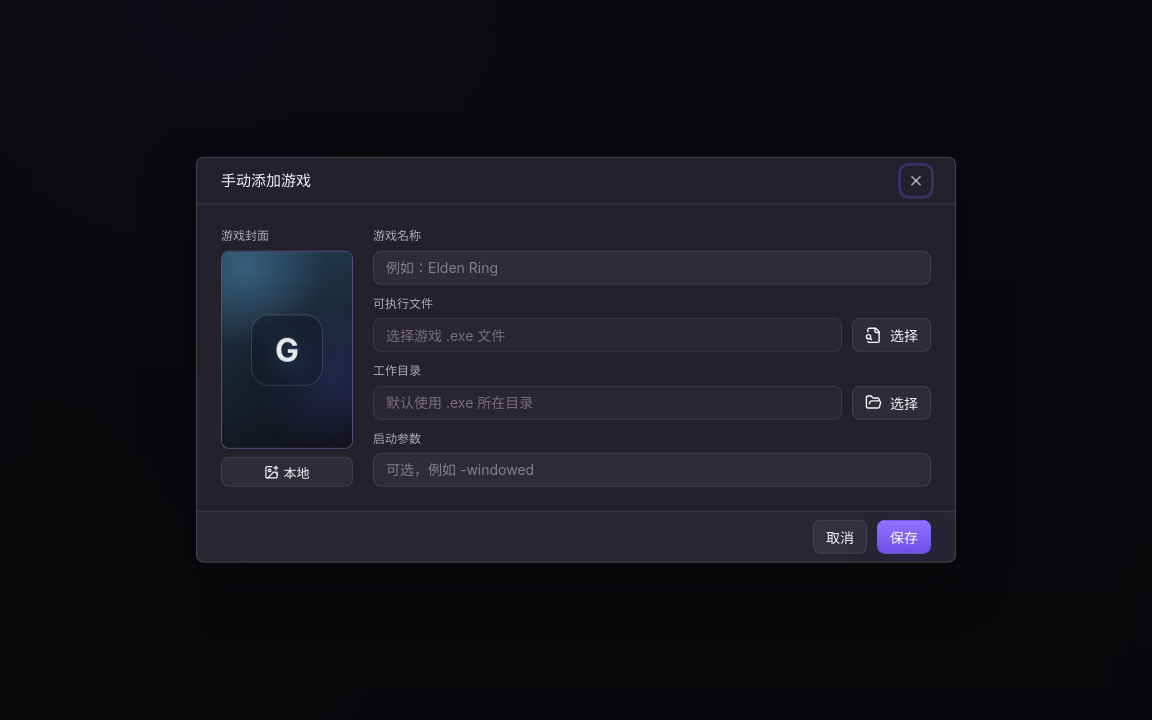
Test case: AddGameDialog › prevents submit when the game path does not end with exe
Type "王者荣耀" into the field with id "game-name". click: point(652, 268)
box: x1=386 y1=259 x2=918 y2=276
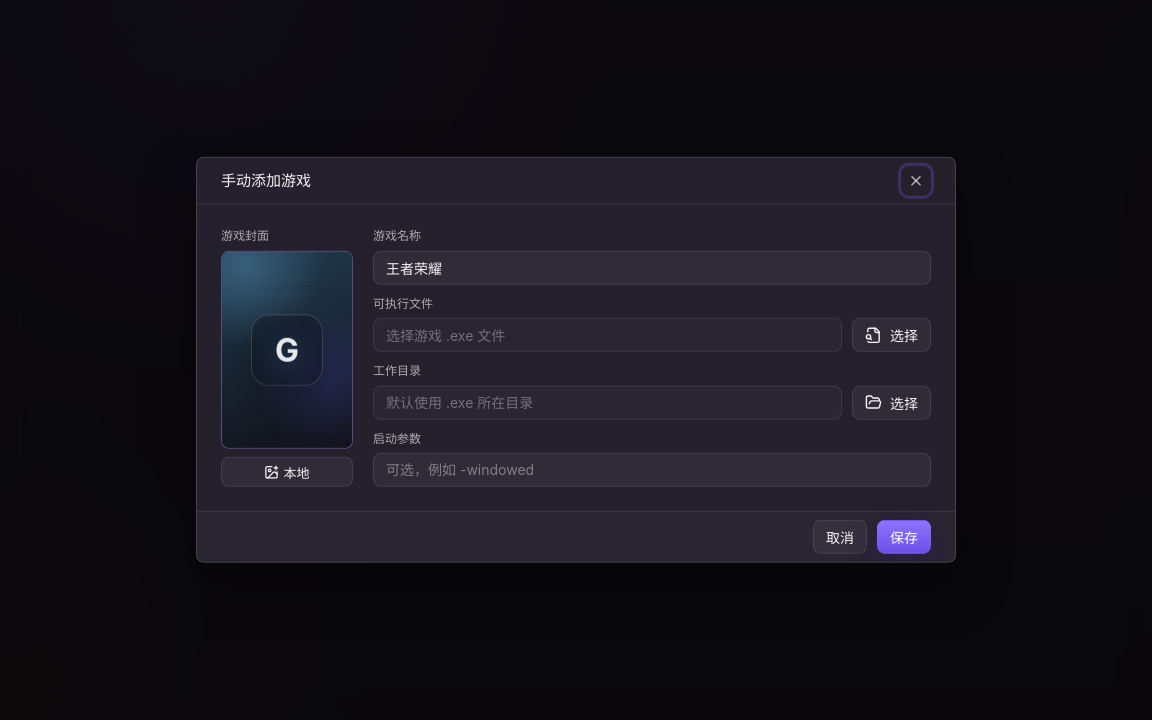
Type "D:\\Games\\Hollow Knight\\hollow_knight.txt" into the field with id "game-exe". click: point(608, 335)
box: x1=386 y1=326 x2=829 y2=344
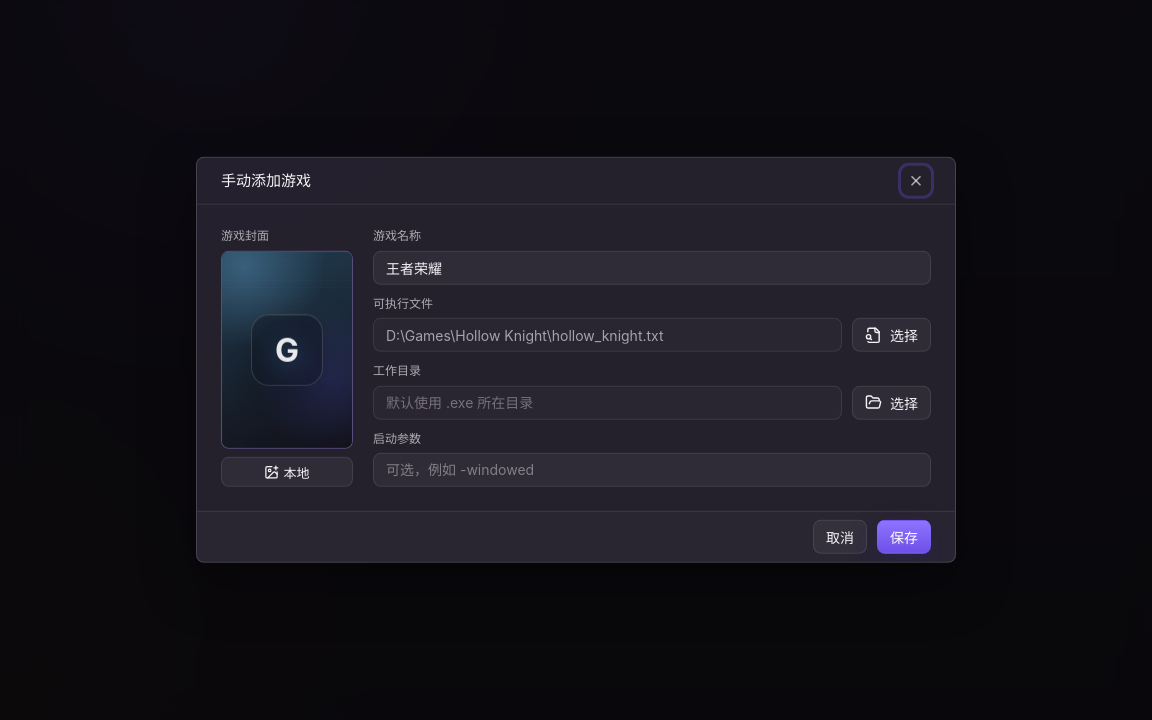
Click the button "保存". click: point(904, 537)
box: x1=877 y1=520 x2=931 y2=554
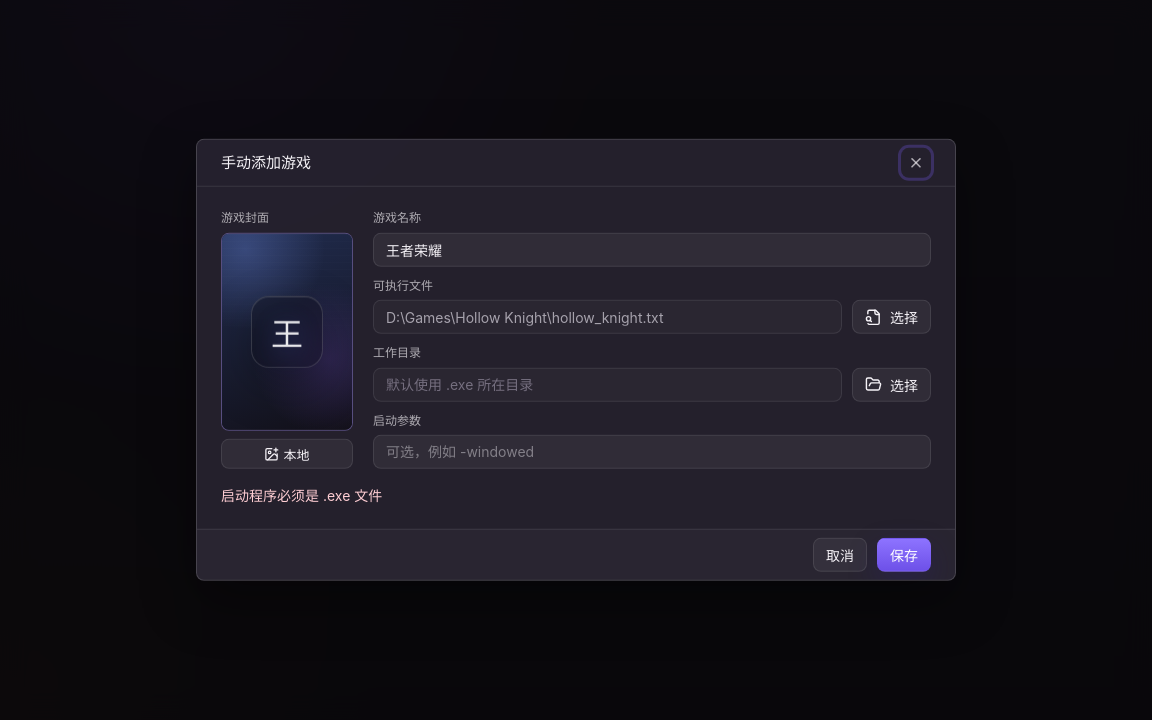
Result: the dialog shows "启动程序必须是 .exe 文件" at x1=221 y1=487 x2=382 y2=504
